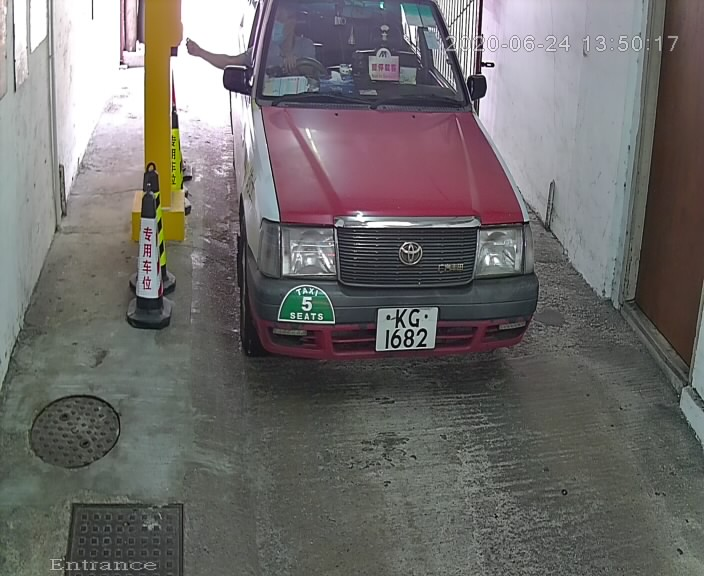Car: (220, 1, 542, 394)
License Plate: (369, 298, 444, 359)
